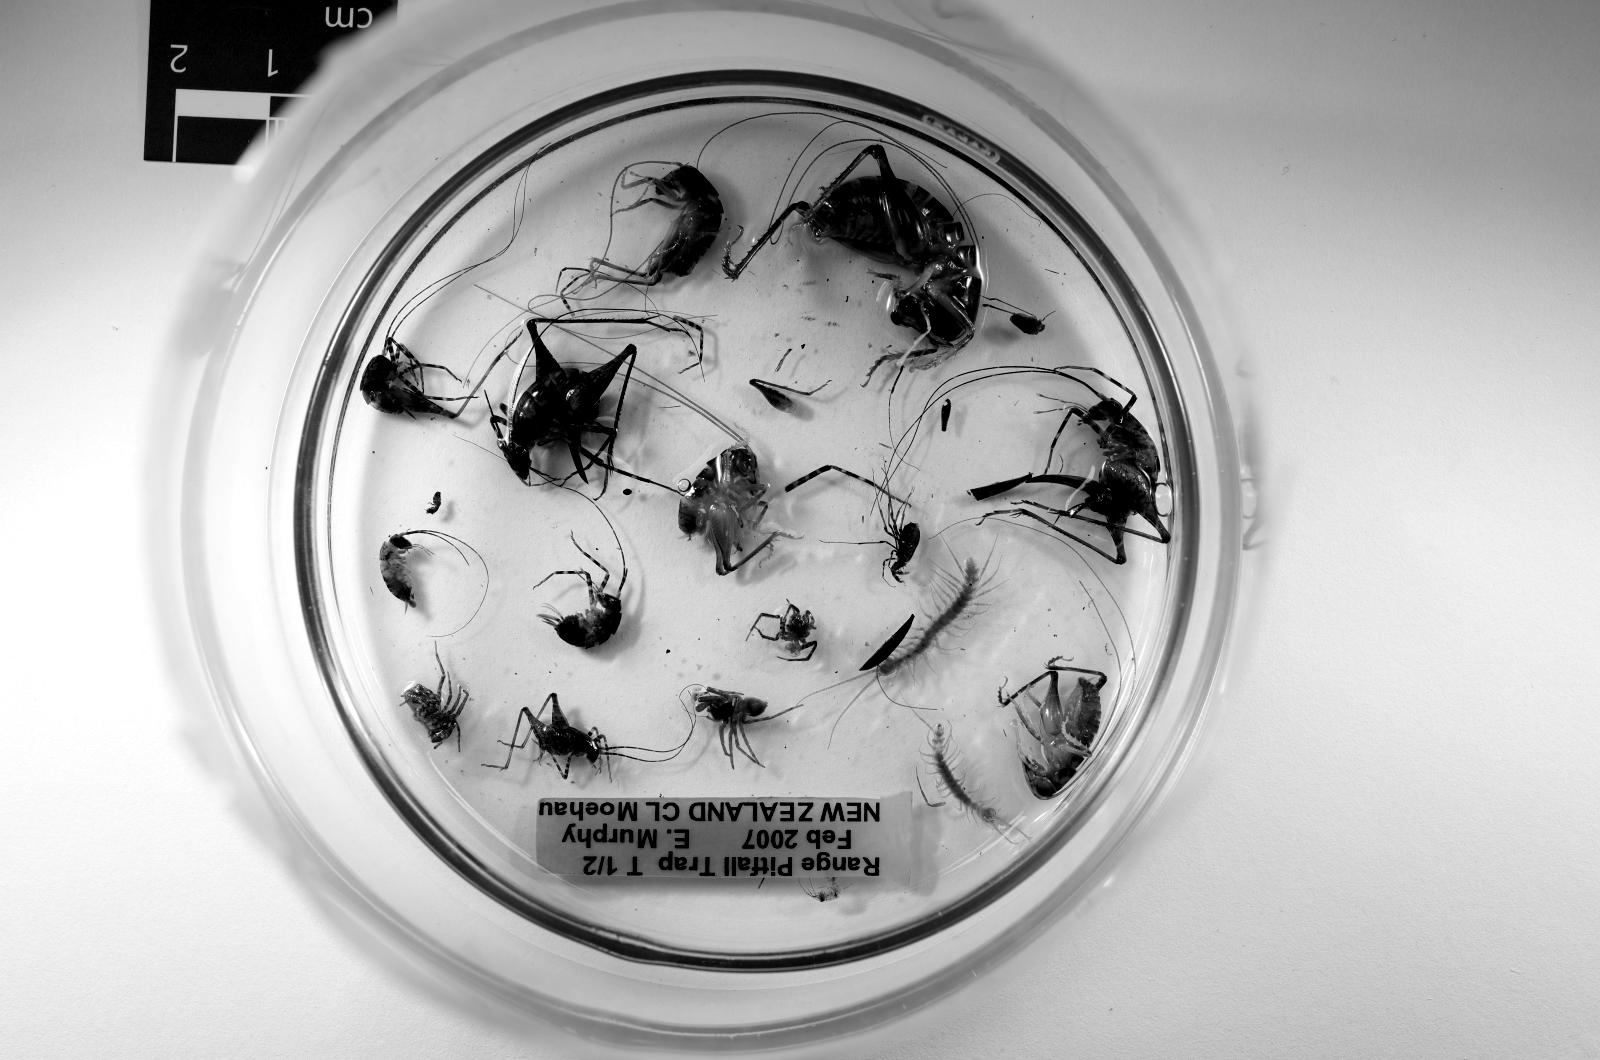araneae: (691, 686, 778, 767), (403, 643, 469, 748), (753, 602, 816, 661)
chilopoda: (869, 556, 994, 683), (922, 724, 1016, 835)
opiliones: (881, 497, 922, 581)
orthoptera: (725, 143, 984, 385), (972, 366, 1172, 565), (491, 320, 638, 494), (566, 165, 722, 292), (678, 444, 791, 578), (1000, 661, 1106, 798), (494, 693, 625, 779), (359, 338, 494, 419), (534, 537, 628, 649), (378, 531, 459, 606)
